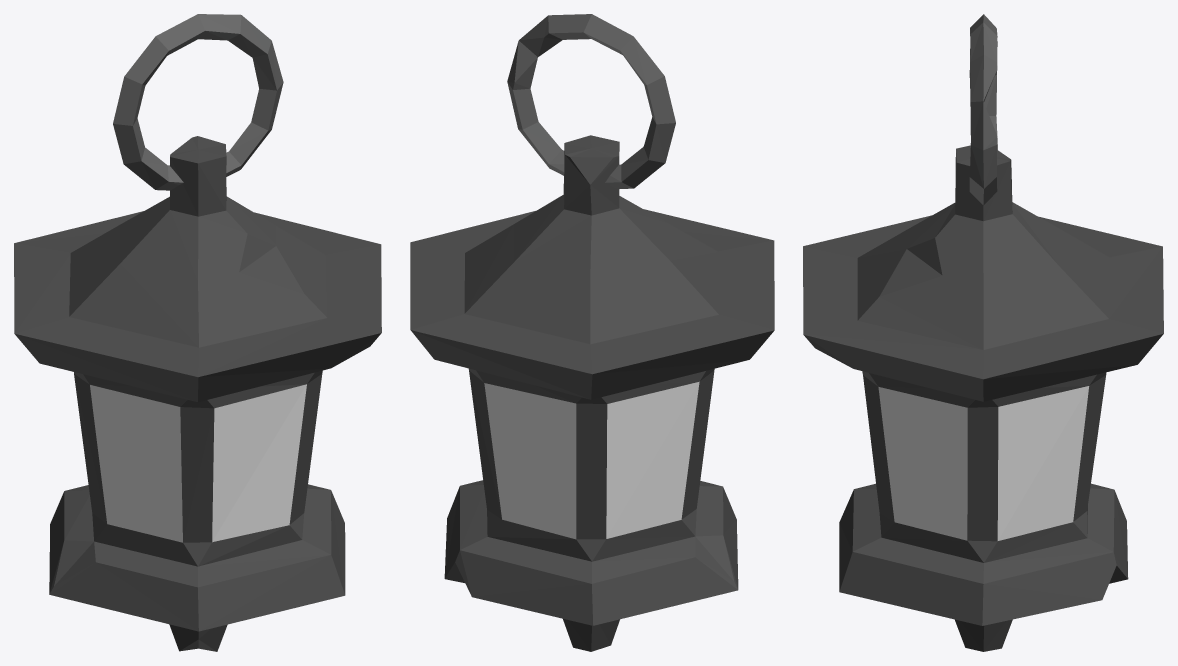
File: Lamp_002.fbx
3 views of the same model, side by side, from view 1: azimuth 30°, elevation 25°; view 2: azimuth 150°, elevation 25°; view 3: azimuth 270°, elevation 25° (orthographic). The views are drawn at different scales.
Visible parts, largest first — view 1: Lamp_002; view 2: Lamp_002; view 3: Lamp_002.
Boxes of the visible parts, x1,y1,x2,y2 form: Lamp_002: [14, 14, 381, 651]; Lamp_002: [410, 14, 774, 651]; Lamp_002: [803, 14, 1163, 651].
Bounding box in the file's own units: 0.3393 × 0.5601 × 0.2947.
